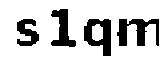1: (46, 7, 76, 49)
m: (116, 17, 160, 50)
q: (81, 18, 114, 60)
s: (12, 18, 42, 50)
